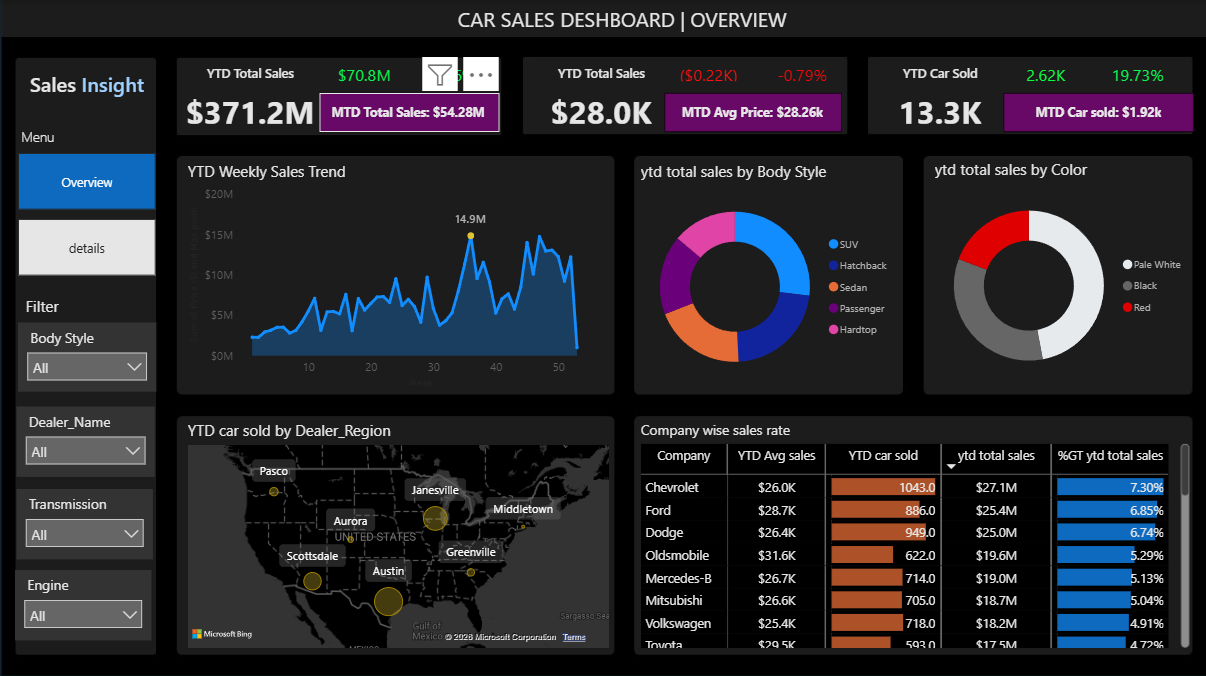

Layout of this report page (visuals, bound fields, positions):
{"tool":"powerbi","page":{"name":"Overview","canvas":[1280,720],"ordinal":0},"visuals":[{"type":"cardVisual","title":"YTD Total Sales","fields":{"Data":["car_data.ytd total sales"]},"box":[171.8,68.4,189.3,77.9],"z":0},{"type":"cardVisual","fields":{"Data":["car_data.Sales Difference"]},"box":[334,57.3,106.6,41.4],"z":1000},{"type":"cardVisual","fields":{"Data":["car_data.YoY sales growth"]},"box":[434.2,57.3,98.6,41.4],"z":2000},{"type":"cardVisual","fields":{"Data":["car_data.MTD Kpi"]},"box":[338.8,98.6,190.9,41.4],"z":3000},{"type":"cardVisual","title":"YTD Total Sales","fields":{"Data":["car_data.YTD Avg sales"]},"box":[544,68.4,189.3,77.9],"z":4000},{"type":"cardVisual","fields":{"Data":["car_data.Avg sale diff"]},"box":[696.7,57.3,114.5,41.4],"z":5000},{"type":"cardVisual","fields":{"Data":["car_data.YoY avg growth"]},"box":[800.1,57.3,103.4,41.4],"z":6000},{"type":"cardVisual","fields":{"Data":["car_data.MTD avg kpi"]},"box":[704.6,98.6,187.7,41.4],"z":7000},{"type":"cardVisual","title":"YTD Car Sold","fields":{"Data":["car_data.YTD car sold"]},"box":[903.5,68.4,189.3,77.9],"z":8000},{"type":"cardVisual","fields":{"Data":["car_data.Car sold difference"]},"box":[1064.1,57.3,90.7,41.4],"z":9000},{"type":"cardVisual","fields":{"Data":["car_data.YoY card sold growth"]},"box":[1154.8,57.3,111.3,41.4],"z":10000},{"type":"cardVisual","fields":{"Data":["car_data.MTD car sold Kpi"]},"box":[1064.1,98.6,202,41.4],"z":11000},{"type":"areaChart","title":"YTD Weekly Sales Trend","fields":{"Category":["Calender_table.Week"],"Y":["Sum(car_data.Price ($))","car_data.Max point"]},"box":[194.3,170,445.7,245.7],"z":12000},{"type":"donutChart","fields":{"Category":["car_data.Body Style"],"Y":["car_data.ytd total sales"]},"box":[674.3,170,280,245.7],"z":13000},{"type":"donutChart","fields":{"Y":["car_data.ytd total sales"],"Category":["car_data.Color"]},"box":[986.2,168.6,279.9,246.5],"z":14000},{"type":"map","fields":{"Category":["car_data.Dealer_Region"],"Size":["car_data.YTD car sold"]},"box":[194.1,445.4,456.5,246.5],"z":15000},{"type":"pivotTable","title":"Company wise sales rate","fields":{"Values":["car_data.YTD Avg sales","car_data.YTD car sold","car_data.ytd total sales","Divide(car_data.ytd total sales, ScopedEval(car_data.ytd total sales, []))"],"Rows":["car_data.Company"]},"box":[674.4,445.4,591.7,246.5],"z":16000},{"type":"textbox","box":[480.4,0,388.1,41.4],"z":17000},{"type":"slicer","fields":{"Values":["car_data.Body Style"]},"box":[19.1,342,146.3,73.2],"z":18000},{"type":"slicer","fields":{"Values":["car_data.Dealer_Name"]},"box":[17.5,431.1,146.3,74.8],"z":19000},{"type":"slicer","fields":{"Values":["car_data.Transmission"]},"box":[17.5,518.5,144.7,74.8],"z":20000},{"type":"slicer","fields":{"Values":["car_data.Engine"]},"box":[15.9,604.4,144.7,74.8],"z":21000},{"type":"textbox","box":[22.3,308.6,60.4,33.4],"z":22000},{"type":"textbox","box":[17.5,68.4,149.5,41.4],"z":22001},{"type":"textbox","box":[17.5,128.8,65.2,33.4],"z":22002},{"type":"pageNavigator","box":[19.1,162.2,146.3,130.4],"z":22003}]}

Visuals, with their boxes on the page's 1280x720 design canvas (x1, y1, x2, y2). These are canvas units, not pixel positions in the 1206x676 screenshot, which may show the page scaled, cropped or inside an application window:
"YTD Total Sales" cardVisual: (x1=172, y1=68, x2=361, y2=146)
cardVisual - car_data.Sales Difference: (x1=334, y1=57, x2=441, y2=99)
cardVisual - car_data.YoY sales growth: (x1=434, y1=57, x2=533, y2=99)
cardVisual - car_data.MTD Kpi: (x1=339, y1=99, x2=530, y2=140)
"YTD Total Sales" cardVisual: (x1=544, y1=68, x2=733, y2=146)
cardVisual - car_data.Avg sale diff: (x1=697, y1=57, x2=811, y2=99)
cardVisual - car_data.YoY avg growth: (x1=800, y1=57, x2=904, y2=99)
cardVisual - car_data.MTD avg kpi: (x1=705, y1=99, x2=892, y2=140)
"YTD Car Sold" cardVisual: (x1=904, y1=68, x2=1093, y2=146)
cardVisual - car_data.Car sold difference: (x1=1064, y1=57, x2=1155, y2=99)
cardVisual - car_data.YoY card sold growth: (x1=1155, y1=57, x2=1266, y2=99)
cardVisual - car_data.MTD car sold Kpi: (x1=1064, y1=99, x2=1266, y2=140)
"YTD Weekly Sales Trend" areaChart: (x1=194, y1=170, x2=640, y2=416)
donutChart - car_data.Body Style x car_data.ytd total sales: (x1=674, y1=170, x2=954, y2=416)
donutChart - car_data.ytd total sales x car_data.Color: (x1=986, y1=169, x2=1266, y2=415)
map - car_data.Dealer_Region x car_data.YTD car sold: (x1=194, y1=445, x2=651, y2=692)
"Company wise sales rate" pivotTable: (x1=674, y1=445, x2=1266, y2=692)
textbox: (x1=480, y1=0, x2=868, y2=41)
slicer - car_data.Body Style: (x1=19, y1=342, x2=165, y2=415)
slicer - car_data.Dealer_Name: (x1=18, y1=431, x2=164, y2=506)
slicer - car_data.Transmission: (x1=18, y1=518, x2=162, y2=593)
slicer - car_data.Engine: (x1=16, y1=604, x2=161, y2=679)
textbox: (x1=22, y1=309, x2=83, y2=342)
textbox: (x1=18, y1=68, x2=167, y2=110)
textbox: (x1=18, y1=129, x2=83, y2=162)
pageNavigator: (x1=19, y1=162, x2=165, y2=293)
